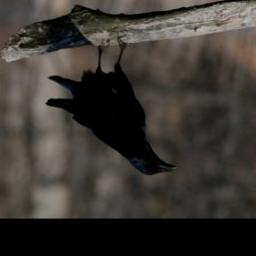Crow: (46, 35, 178, 179)
